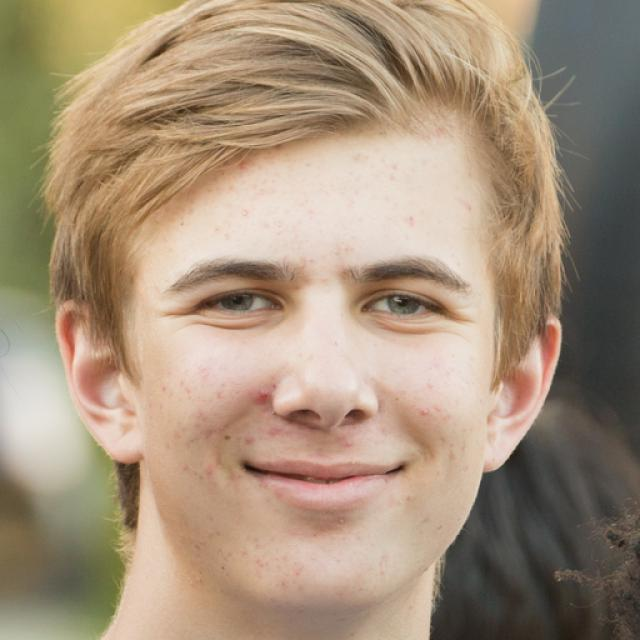Acne: (247, 382, 282, 408), (414, 399, 434, 426), (337, 435, 364, 452), (230, 158, 250, 173), (330, 517, 351, 529)
